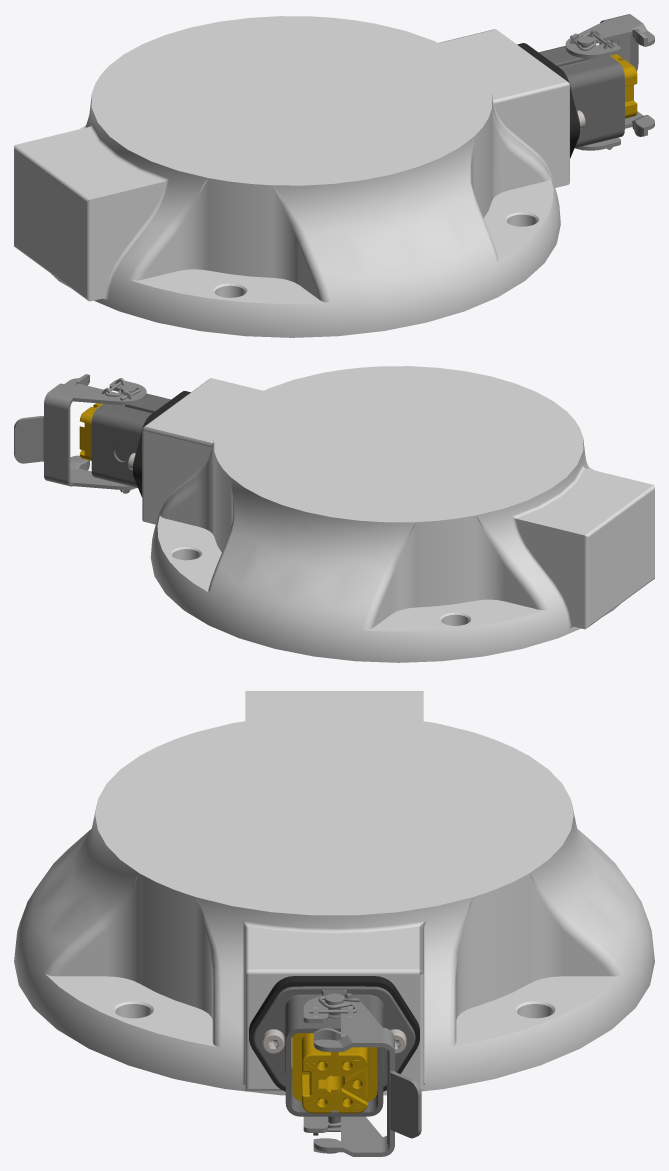
3 renders of one model, top to bottom at view 1: azimuth 30°, elevation 25°; view 2: azimuth 150°, elevation 25°; view 3: azimuth 270°, elevation 25°, orthographic. The views are drawn at different scales.
Parts seen in each view (by area): view 1: Zu 7 001, Zu 7 003, Zu 7 002, Zu 7 00; view 2: Zu 7 001, Zu 7 002, Zu 7 003, Zu 7 00; view 3: Zu 7 001, Zu 7 003, Zu 7 002, Zu 7 00.
Boxes of the visible parts, bbox=[...] form: Zu 7 001: bbox=[14, 16, 585, 337]; Zu 7 003: bbox=[517, 43, 624, 158]; Zu 7 002: bbox=[565, 14, 654, 150]; Zu 7 00: bbox=[610, 54, 637, 118]; Zu 7 001: bbox=[128, 366, 654, 662]; Zu 7 002: bbox=[14, 374, 146, 493]; Zu 7 003: bbox=[91, 391, 190, 497]; Zu 7 00: bbox=[79, 403, 103, 460]; Zu 7 001: bbox=[14, 691, 654, 1095]; Zu 7 003: bbox=[249, 976, 419, 1123]; Zu 7 002: bbox=[303, 993, 421, 1156]; Zu 7 00: bbox=[292, 994, 377, 1113].
Size of the model in its own units: 0.2116 by 0.158 by 0.04.
